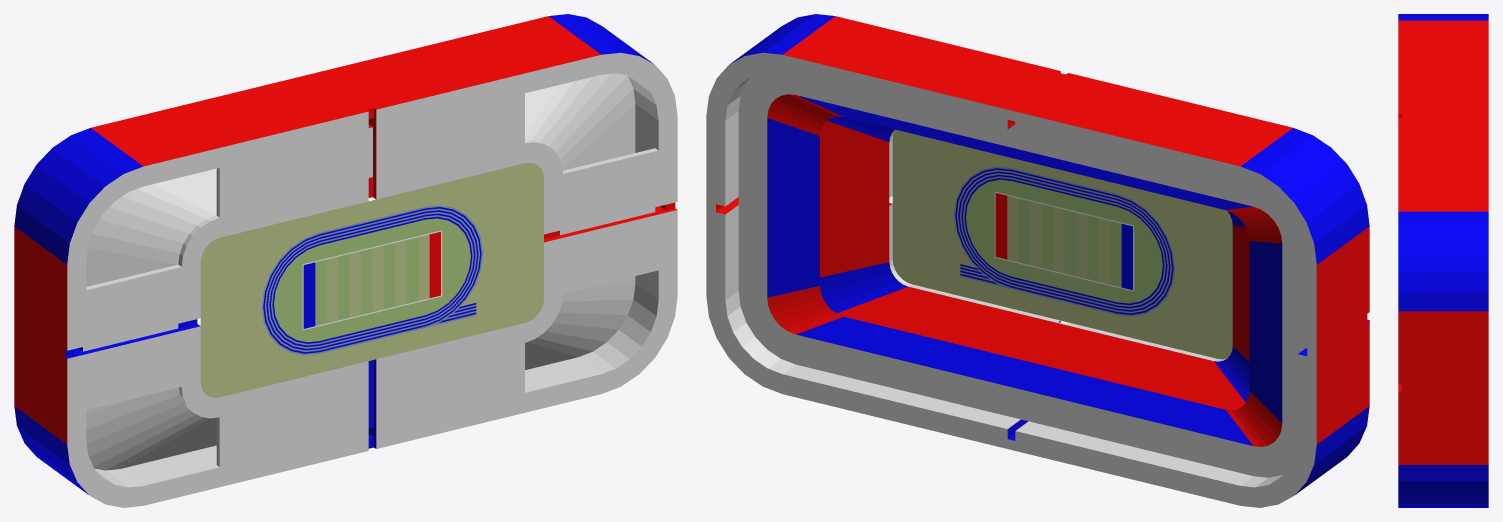
File: Big_Stadium_Inverted.fbx
The picture shows the model from 3 angles, left to right: view 1: azimuth 30°, elevation 25°; view 2: azimuth 150°, elevation 25°; view 3: azimuth 270°, elevation 25°; orthographic projection. The views are drawn at different scales.
Parts seen in each view (by area): view 1: imagetostl_mesh174, imagetostl_mesh383, imagetostl_mesh438, imagetostl_mesh203, imagetostl_mesh423, imagetostl_mesh393, imagetostl_mesh427, imagetostl_mesh431, imagetostl_mesh7, imagetostl_mesh416, imagetostl_mesh387, imagetostl_mesh89 (+37 smaller); view 2: imagetostl_mesh277, imagetostl_mesh339, imagetostl_mesh174, imagetostl_mesh383, imagetostl_mesh142, imagetostl_mesh283, imagetostl_mesh58, imagetostl_mesh427, imagetostl_mesh282, imagetostl_mesh89, imagetostl_mesh284, imagetostl_mesh271 (+35 smaller); view 3: imagetostl_mesh383, imagetostl_mesh412, imagetostl_mesh72, imagetostl_mesh73, imagetostl_mesh162, imagetostl_mesh75, imagetostl_mesh94, imagetostl_mesh74, imagetostl_mesh95, imagetostl_mesh85, imagetostl_mesh151, imagetostl_mesh133 (+1 smaller).
Part boxes in pixels (x1,y1,x2,y2): imagetostl_mesh174: (200,162,543,397); imagetostl_mesh383: (91,16,600,166); imagetostl_mesh438: (86,131,368,345); imagetostl_mesh203: (86,326,368,466); imagetostl_mesh423: (376,214,658,428); imagetostl_mesh393: (376,93,658,234); imagetostl_mesh427: (14,226,67,444); imagetostl_mesh431: (67,111,368,350); imagetostl_mesh7: (67,354,368,507); imagetostl_mesh416: (376,210,677,448); imagetostl_mesh387: (376,52,677,206); imagetostl_mesh89: (274,218,470,342); imagetostl_mesh277: (738,73,1305,477); imagetostl_mesh339: (706,52,1316,507); imagetostl_mesh174: (892,130,1232,359); imagetostl_mesh383: (783,16,1292,166); imagetostl_mesh142: (837,286,1245,410); imagetostl_mesh283: (796,316,1253,446); imagetostl_mesh58: (820,121,889,277); imagetostl_mesh427: (1316,226,1369,444); imagetostl_mesh282: (767,118,819,297); imagetostl_mesh89: (966,179,1162,303); imagetostl_mesh284: (1249,241,1282,422); imagetostl_mesh271: (797,95,1252,209); imagetostl_mesh383: (1398,20,1488,211); imagetostl_mesh412: (1398,311,1488,464); imagetostl_mesh72: (1398,273,1488,292); imagetostl_mesh73: (1398,292,1488,311); imagetostl_mesh162: (1398,254,1488,272); imagetostl_mesh75: (1398,236,1488,253); imagetostl_mesh94: (1398,465,1488,481); imagetostl_mesh74: (1398,222,1488,236); imagetostl_mesh95: (1398,481,1488,494); imagetostl_mesh85: (1398,211,1488,221); imagetostl_mesh151: (1398,494,1488,503); imagetostl_mesh133: (1398,15,1488,20).
Size of the model in its own units: 1920000 by 1020000 by 288000.
